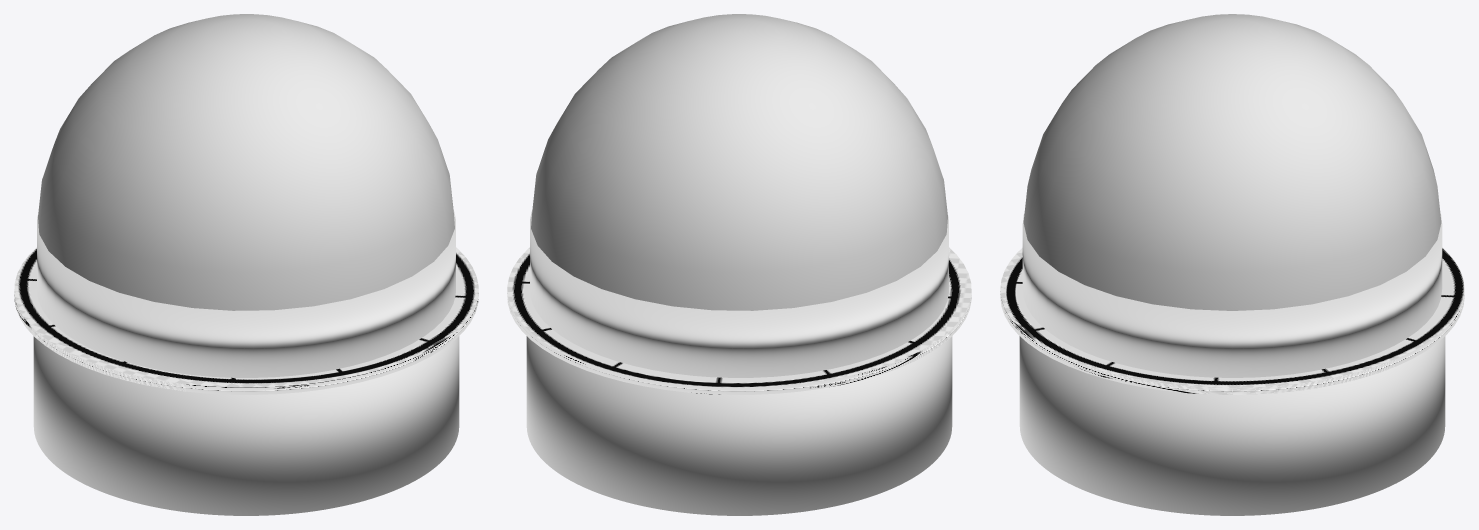
The model's file is roundPlatform.fbx.
3 views of the same model, side by side, from view 1: azimuth 30°, elevation 25°; view 2: azimuth 150°, elevation 25°; view 3: azimuth 270°, elevation 25° (orthographic).
Visible parts, largest first — view 1: Sphere, Cylinder, top, drehscheibe; view 2: Sphere, Cylinder, top, drehscheibe; view 3: Sphere, Cylinder, top, drehscheibe.
Part boxes in pixels (x1=…): Sphere: x1=38, y1=14, x2=454, y2=310; Cylinder: x1=33, y1=336, x2=459, y2=515; top: x1=37, y1=210, x2=455, y2=377; drehscheibe: x1=14, y1=247, x2=478, y2=394; Sphere: x1=531, y1=14, x2=947, y2=310; Cylinder: x1=526, y1=336, x2=952, y2=515; top: x1=530, y1=210, x2=948, y2=377; drehscheibe: x1=507, y1=247, x2=971, y2=394; Sphere: x1=1023, y1=14, x2=1441, y2=310; Cylinder: x1=1019, y1=336, x2=1445, y2=515; top: x1=1022, y1=213, x2=1442, y2=377; drehscheibe: x1=1000, y1=248, x2=1464, y2=394.
Bounding box in the file's own units: 271 × 253 × 271.
